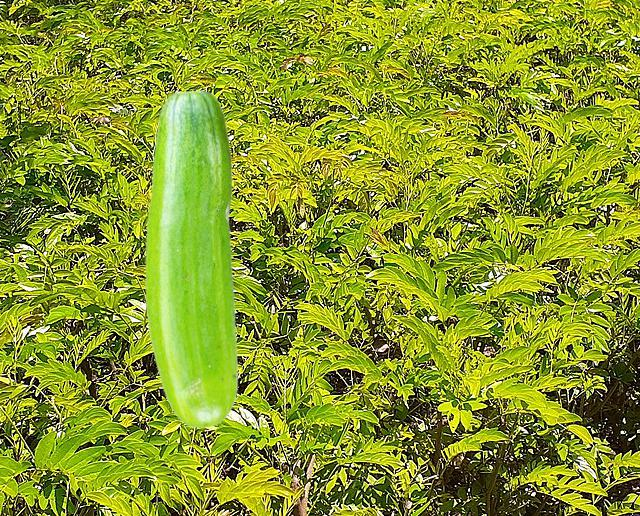cucumber: (145, 89, 237, 427)
